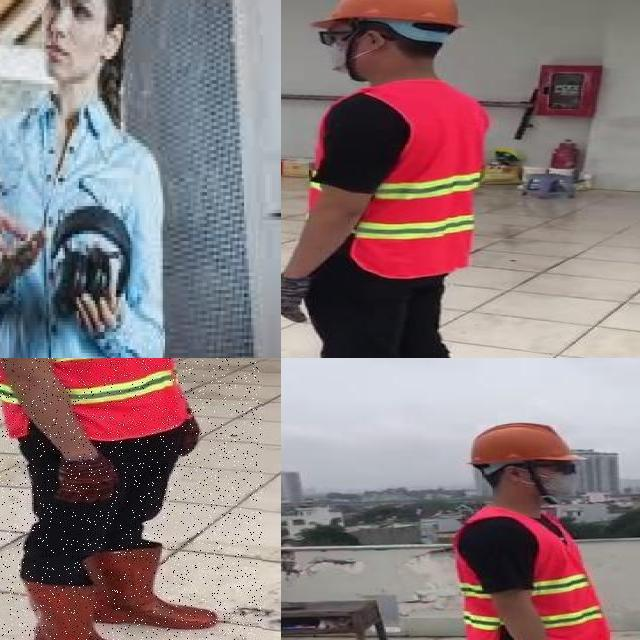Ear-protection: (49, 241, 86, 315), (84, 238, 120, 311)
boots: (84, 548, 219, 631), (18, 579, 157, 640)
face_mask: (534, 458, 584, 500)
glasses: (529, 457, 583, 478)
hand_glove: (281, 274, 318, 325)
head_helmet: (464, 421, 582, 464), (314, 0, 467, 30)
person: (281, 0, 510, 358), (0, 358, 262, 640), (0, 0, 164, 358), (439, 417, 634, 640)
vest: (357, 81, 497, 275), (452, 506, 610, 640), (0, 358, 182, 440)
